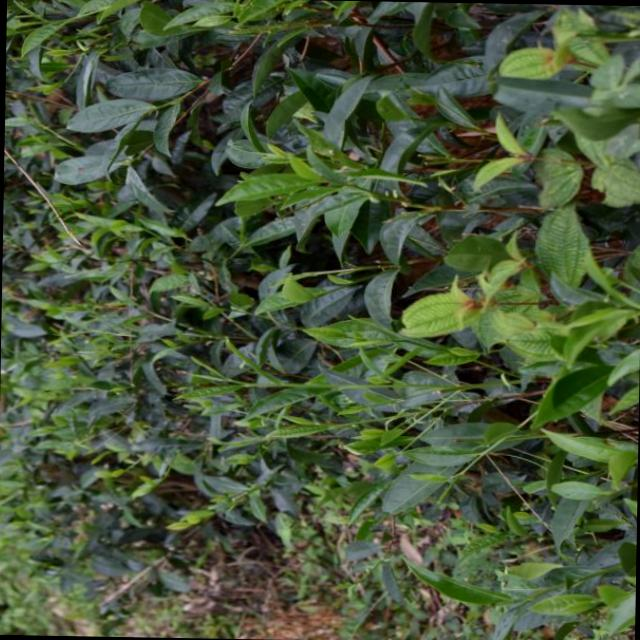Stem: (337, 384, 360, 390), (156, 101, 171, 108)
